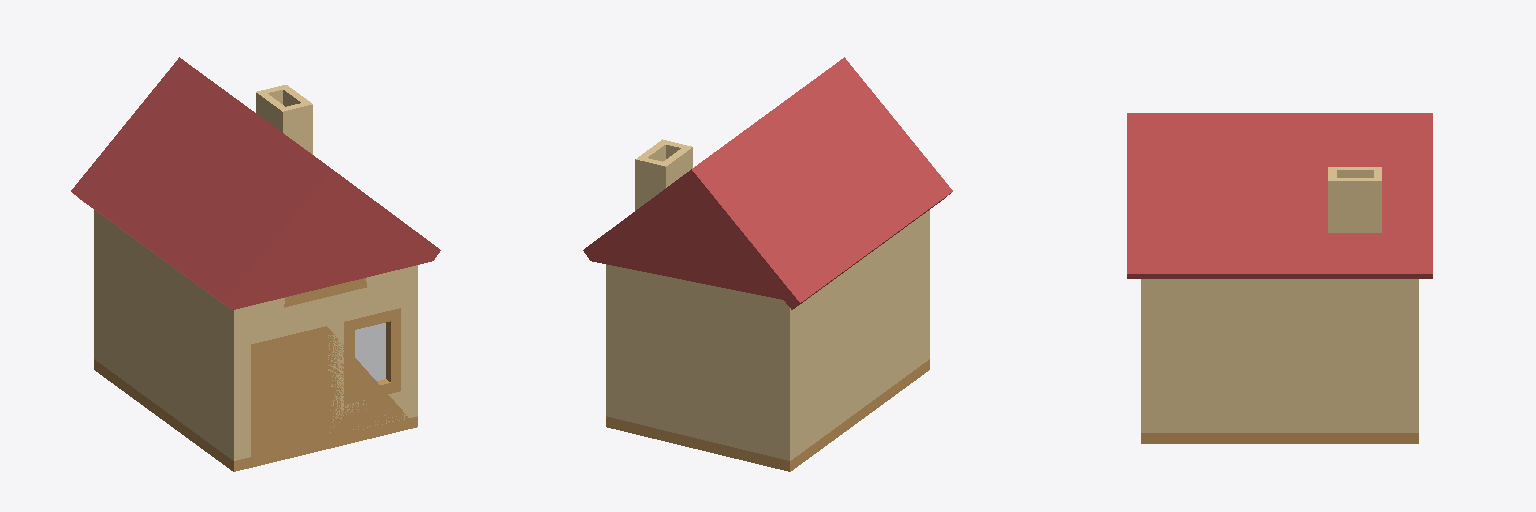
Rendered from miniguide3_house.obj.
3 renders of one model, left to right at view 1: azimuth 30°, elevation 25°; view 2: azimuth 150°, elevation 25°; view 3: azimuth 270°, elevation 25°, orthographic.
Parts seen in each view (by area): view 1: Mesh1 Model; view 2: Mesh1 Model; view 3: Mesh1 Model.
Boxes of the visible parts, <box> form: Mesh1 Model: <box>71,57,440,471</box>; Mesh1 Model: <box>583,57,952,471</box>; Mesh1 Model: <box>1127,113,1432,443</box>.
Size of the model in its own units: 2.73 by 3.43 by 3.33.